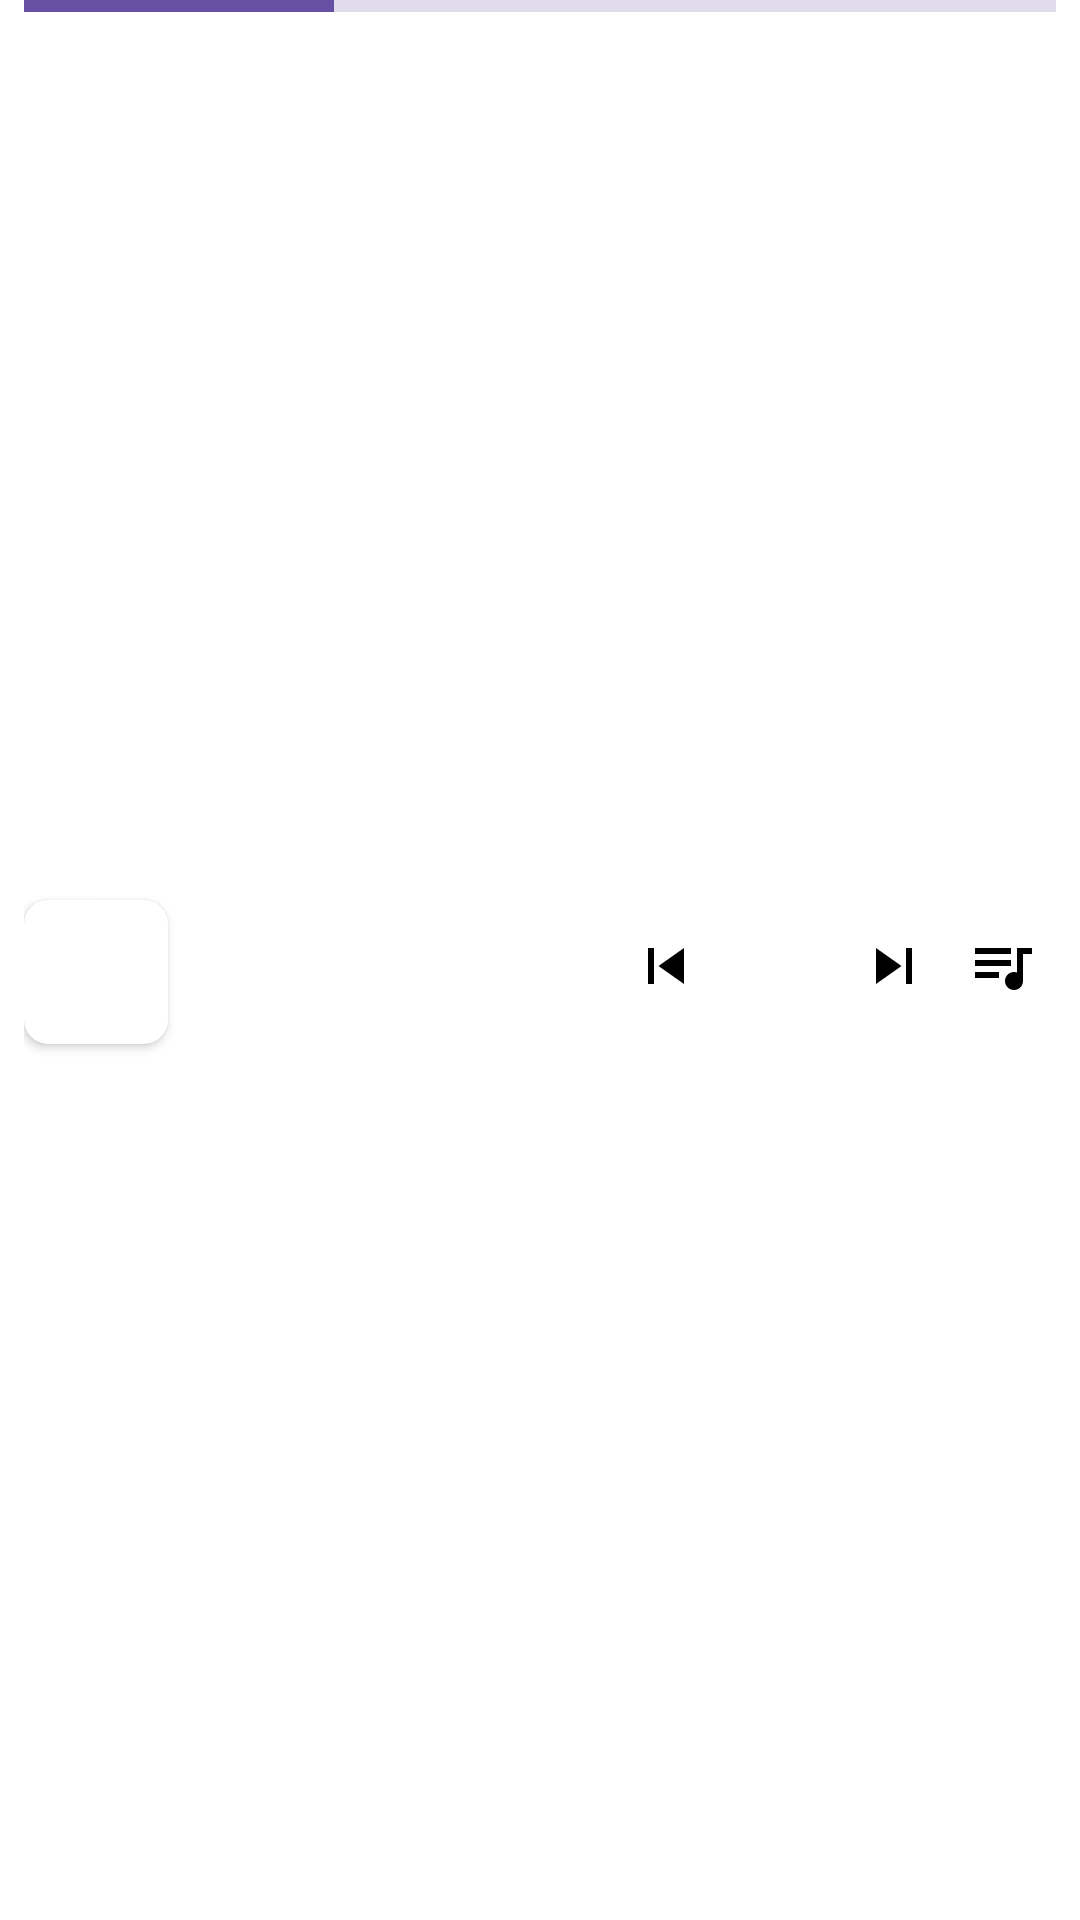

Screen size 1080x1920. Icon name, then its center in pixels as [x,y]:
Anterior: [666,966]
Cola: [1003,969]
Siguiente: [894,966]
